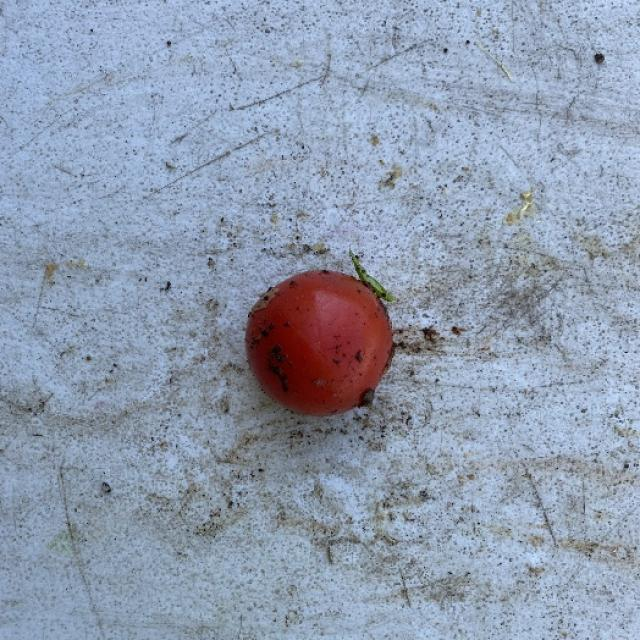organik: (241, 268, 397, 422)
